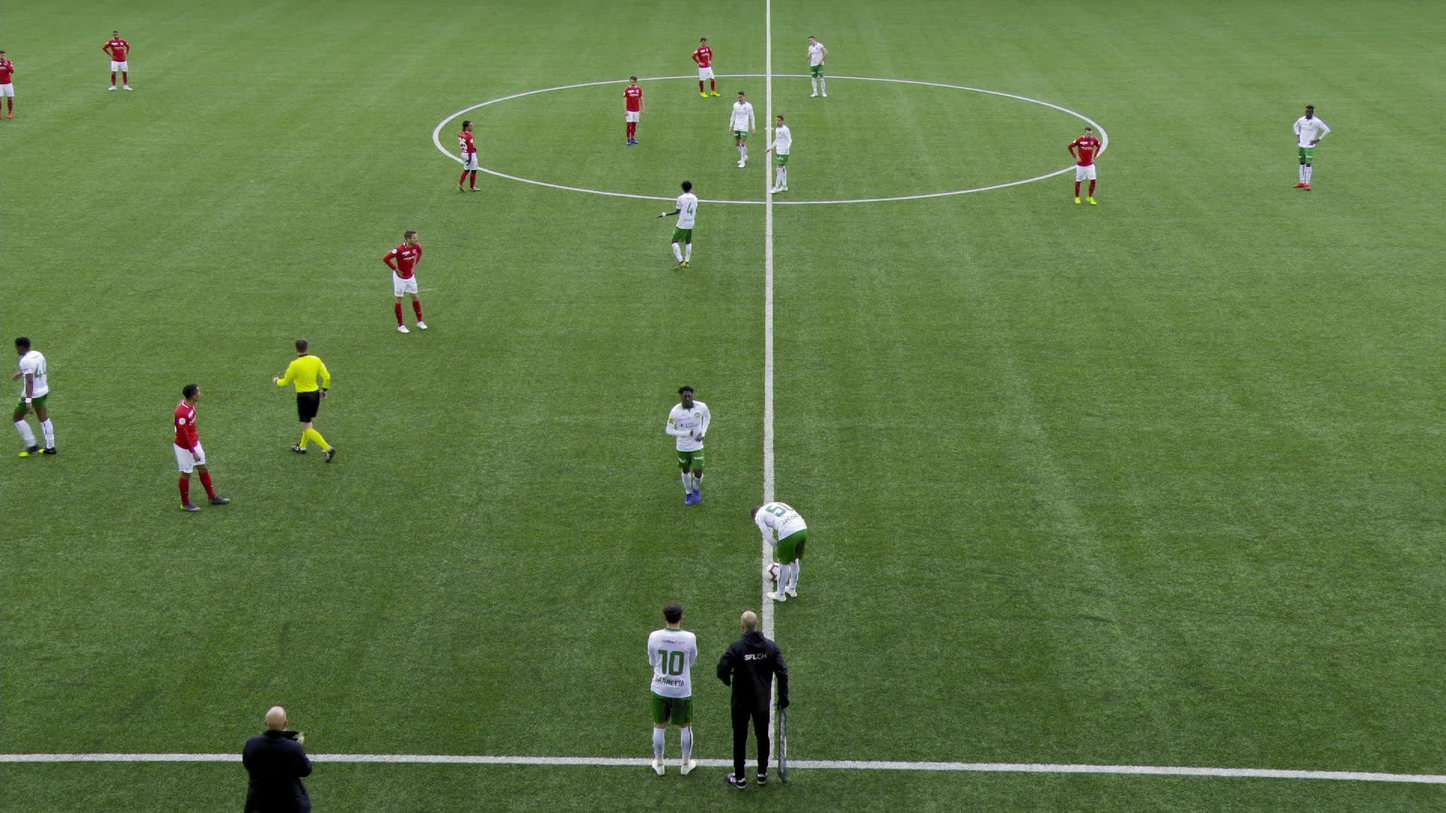ball: (765, 562, 779, 581)
player: (642, 600, 703, 776), (170, 381, 230, 513), (746, 499, 808, 602), (662, 382, 711, 510), (13, 333, 60, 459), (380, 227, 429, 334), (655, 179, 700, 271), (1290, 102, 1332, 192), (1064, 124, 1101, 206), (726, 90, 758, 169), (762, 114, 792, 194), (453, 119, 482, 194), (101, 29, 134, 92), (690, 36, 721, 98), (620, 75, 645, 146), (804, 35, 830, 98), (0, 49, 15, 120)
referee: (271, 337, 337, 465)
